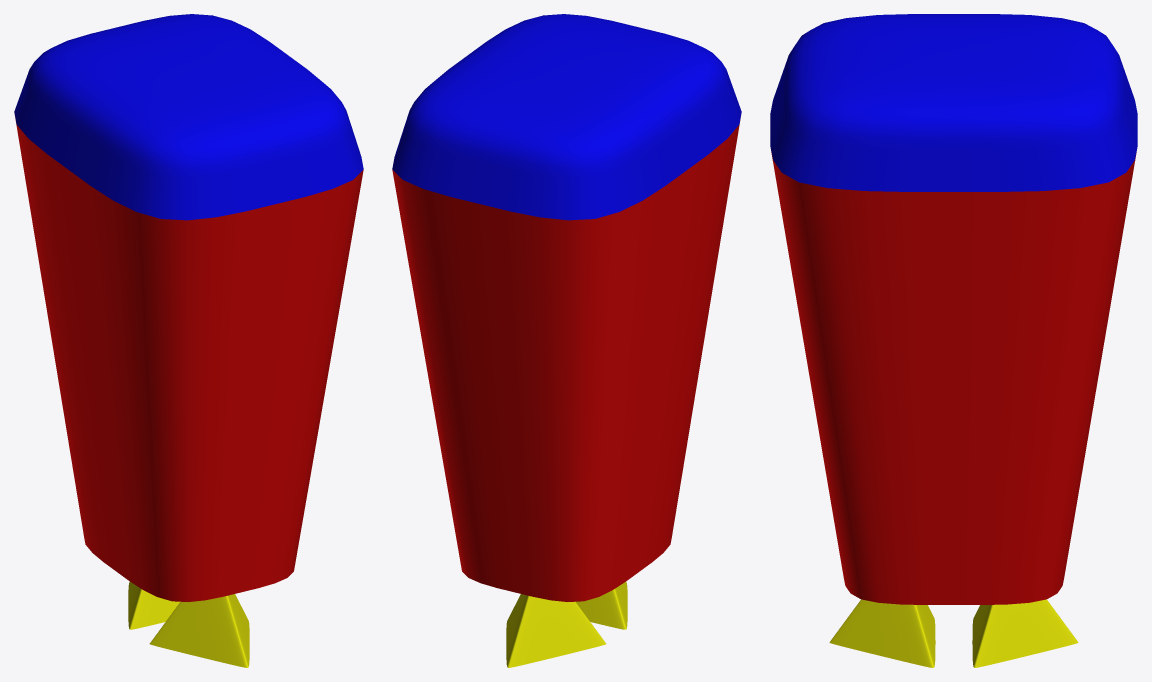
File: Mülleimer_2_high.fbx
The picture shows the model from 3 angles, left to right: view 1: azimuth 30°, elevation 25°; view 2: azimuth 150°, elevation 25°; view 3: azimuth 270°, elevation 25°; orthographic projection. The views are drawn at different scales.
Visible parts, largest first — view 1: Mülleimer_2_high; view 2: Mülleimer_2_high; view 3: Mülleimer_2_high.
Part boxes in pixels (left/top/right/bottom): Mülleimer_2_high: left=14, top=14, right=363, bottom=667; Mülleimer_2_high: left=392, top=14, right=741, bottom=667; Mülleimer_2_high: left=770, top=14, right=1137, bottom=667.
Bounding box in the file's own units: 0.4 × 0.8835 × 0.5.
